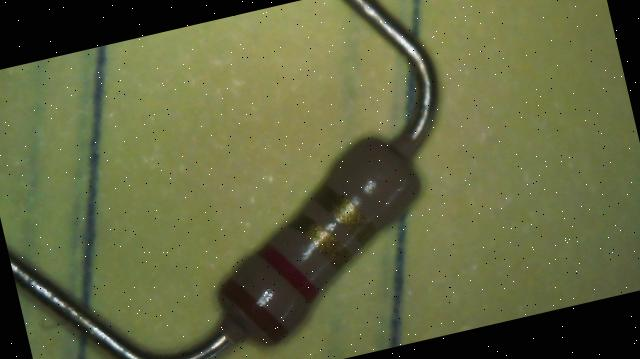brown: (220, 272, 290, 351)
gold: (288, 200, 354, 278), (314, 176, 380, 253)
red: (256, 236, 321, 311)
resistor: (187, 108, 463, 359)
